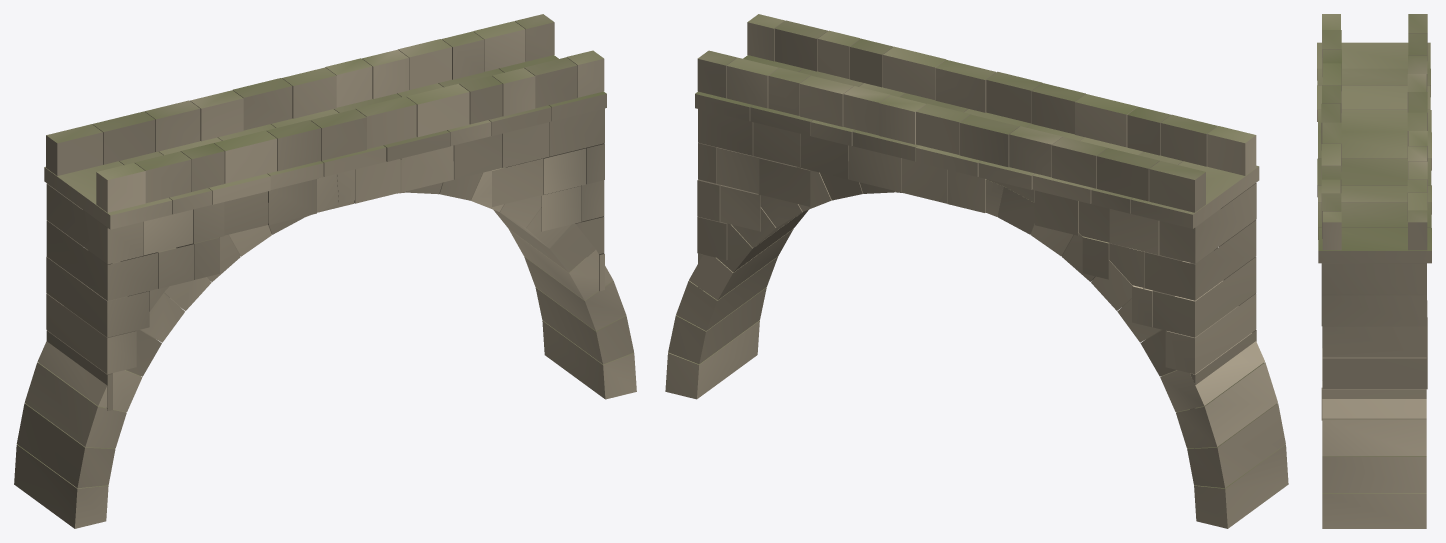
Rendered from viaduct_top_arch_mid.glb.
The picture shows the model from 3 angles, left to right: view 1: azimuth 30°, elevation 25°; view 2: azimuth 150°, elevation 25°; view 3: azimuth 270°, elevation 25°; orthographic projection. The views are drawn at different scales.
Parts seen in each view (by area): view 1: viaduct_top_arch_mid; view 2: viaduct_top_arch_mid; view 3: viaduct_top_arch_mid.
Boxes of the visible parts, x1,y1,x2,y2 form: viaduct_top_arch_mid: [14, 14, 636, 528]; viaduct_top_arch_mid: [665, 14, 1288, 528]; viaduct_top_arch_mid: [1317, 14, 1431, 528].
Bounding box in the file's own units: 31.85 × 18.47 × 6.57.
